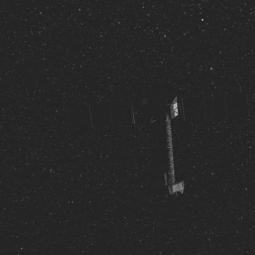xmm_newton: (126, 91, 226, 208)
